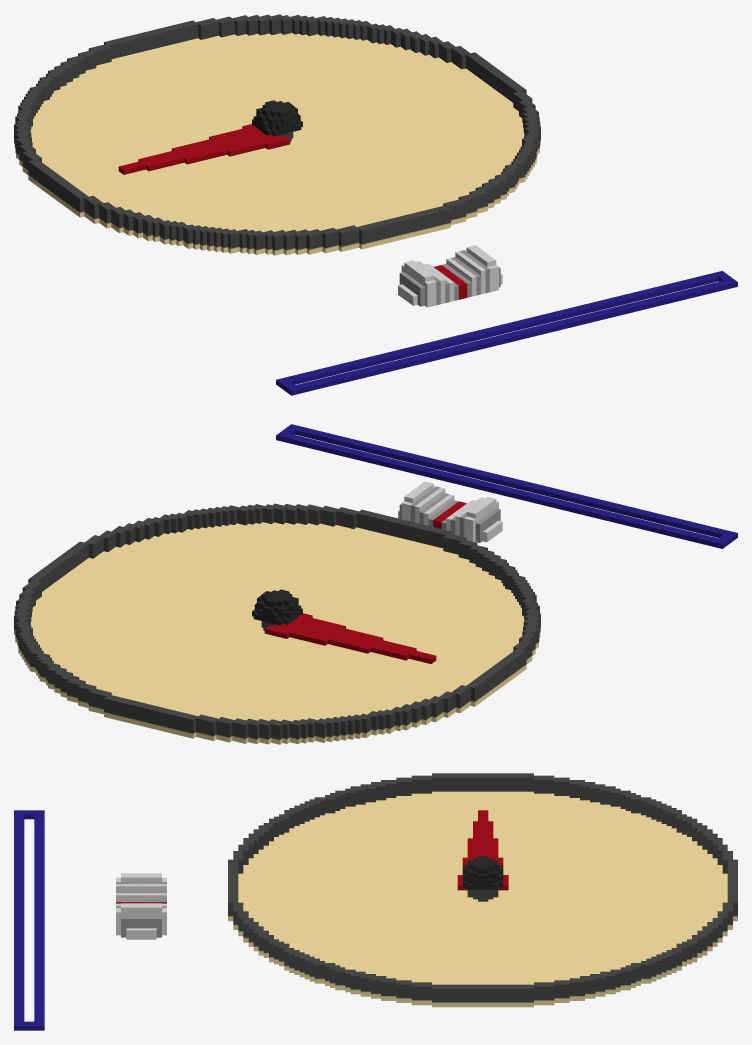
The model's file is Test_Slider.fbx.
3 renders of one model, top to bottom at view 1: azimuth 30°, elevation 25°; view 2: azimuth 150°, elevation 25°; view 3: azimuth 270°, elevation 25°, orthographic.
Visible parts, largest first — view 1: Union, Matrix_1, Matrix, Triangle, Sphere; view 2: Union, Matrix_1, Matrix, Triangle, Sphere; view 3: Union, Matrix_1, Matrix, Triangle, Sphere.
Boxes of the visible parts, left/top/right/bottom form: Union: left=14, top=14, right=540, bottom=255; Matrix_1: left=276, top=271, right=737, bottom=395; Matrix: left=398, top=245, right=502, bottom=307; Triangle: left=118, top=124, right=290, bottom=174; Sphere: left=252, top=100, right=302, bottom=136; Union: left=14, top=503, right=540, bottom=744; Matrix_1: left=276, top=424, right=737, bottom=548; Matrix: left=398, top=481, right=502, bottom=542; Triangle: left=264, top=613, right=436, bottom=663; Sphere: left=252, top=589, right=302, bottom=625; Union: left=228, top=773, right=737, bottom=1007; Matrix_1: left=14, top=810, right=44, bottom=1030; Matrix: left=116, top=873, right=166, bottom=939; Triangle: left=457, top=810, right=508, bottom=890; Sphere: left=462, top=856, right=503, bottom=889.
Size of the model in its own units: 100 by 13 by 142.
1 material, 1 textured.
